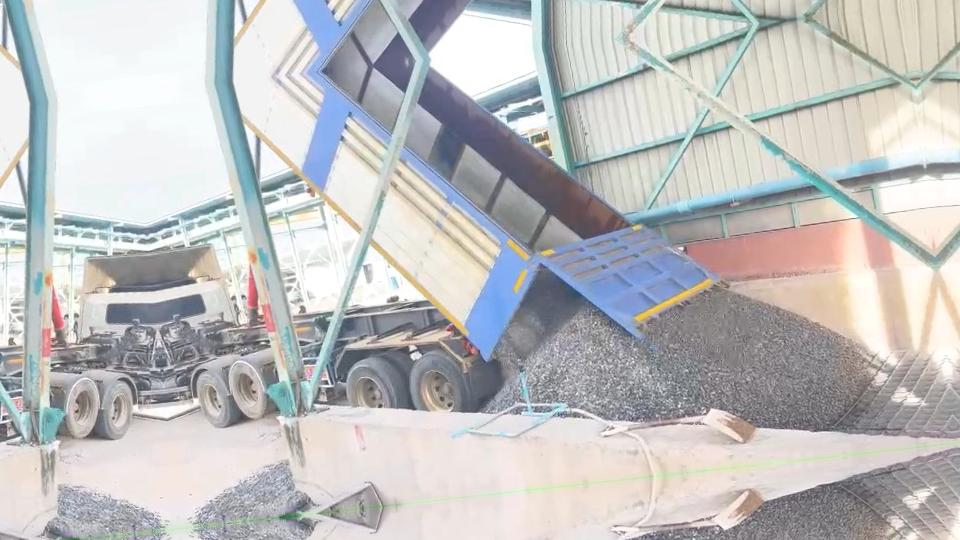gravel: (499, 288, 875, 429), (193, 460, 311, 525), (484, 378, 521, 411)
